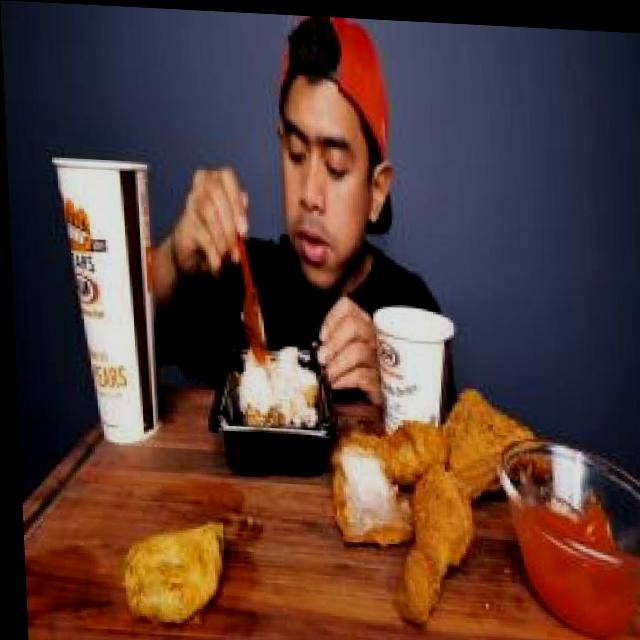AW cola: (40, 131, 166, 464)
black pepper rice bowl: (227, 307, 331, 466)
crispy corn: (370, 292, 473, 444)
fried chicken: (322, 368, 539, 614)
perkedel: (102, 493, 232, 640)
